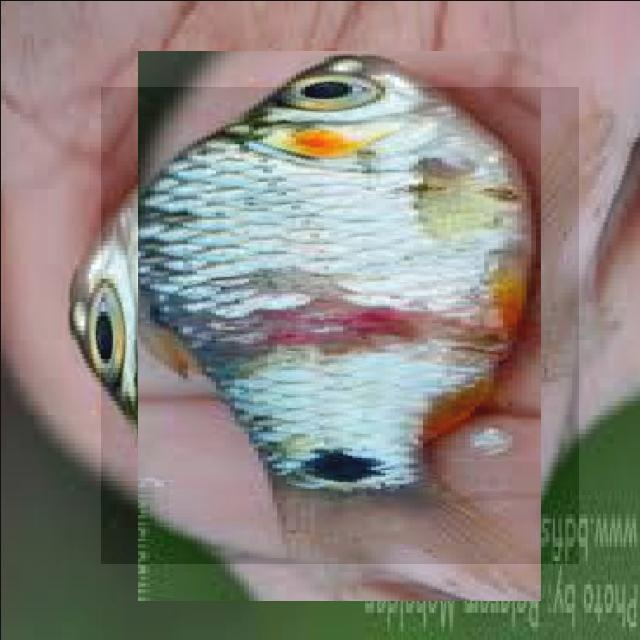EUS Disease: (100, 86, 578, 563), (275, 148, 506, 511)
